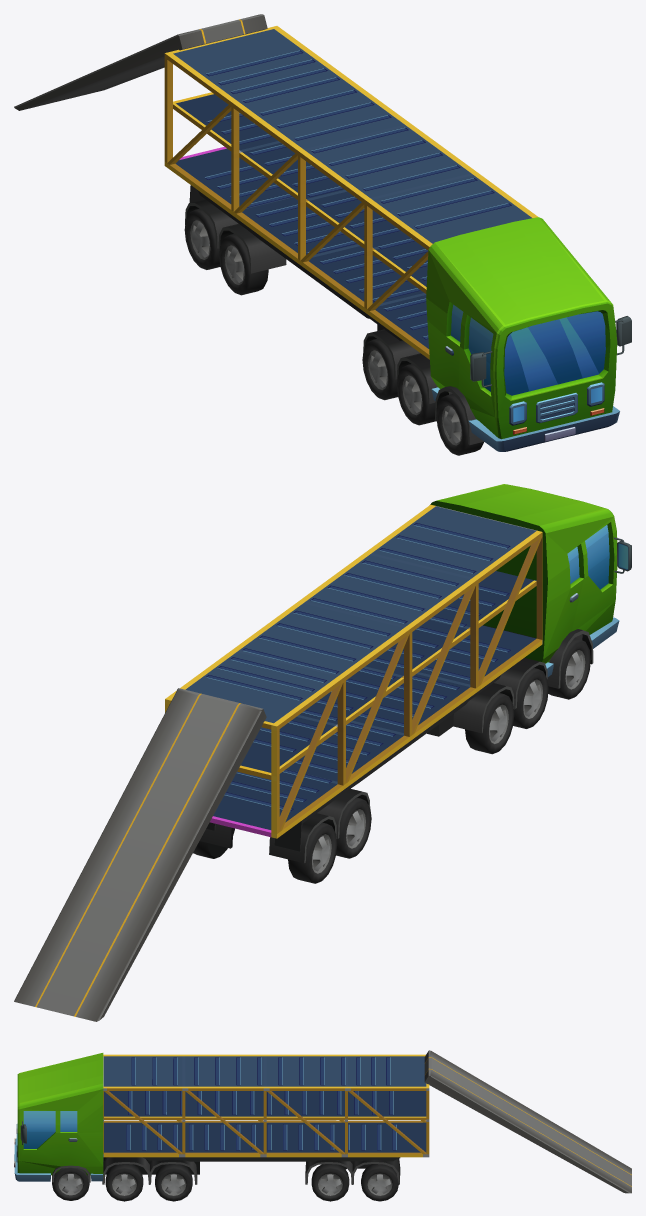
File: Troller_new 1.fbx
3 renders of one model, top to bottom at view 1: azimuth 30°, elevation 25°; view 2: azimuth 150°, elevation 25°; view 3: azimuth 270°, elevation 25°, orthographic. The views are drawn at different scales.
Parts seen in each view (by area): view 1: back_Troller, front_troller, Truck_With_Carrier_new:Ramp1, Truck_With_Carrier_new:Truck7, Truck_With_Carrier_new:Truck10, Truck_With_Carrier_new:Truck9, Truck_With_Carrier_new:Truck6, Truck_With_Carrier_new:Truck5; view 2: back_Troller, Truck_With_Carrier_new:Ramp1, front_troller, Truck_With_Carrier_new:Truck5, Truck_With_Carrier_new:Truck6, Truck_With_Carrier_new:Truck7, Truck_With_Carrier_new:Truck10, Truck_With_Carrier_new:Truck9; view 3: back_Troller, front_troller, Truck_With_Carrier_new:Ramp1, Truck_With_Carrier_new:Truck8, Truck_With_Carrier_new:Truck4, Truck_With_Carrier_new:Truck1, Truck_With_Carrier_new:Truck3, Truck_With_Carrier_new:Truck2.
Boxes of the visible parts, <box> form: back_Troller: <box>164,26,545,403</box>; front_troller: <box>426,217,631,451</box>; Truck_With_Carrier_new:Ramp1: <box>14,14,267,110</box>; Truck_With_Carrier_new:Truck7: <box>219,234,268,295</box>; Truck_With_Carrier_new:Truck10: <box>397,364,435,425</box>; Truck_With_Carrier_new:Truck9: <box>436,394,483,455</box>; Truck_With_Carrier_new:Truck6: <box>362,339,397,400</box>; Truck_With_Carrier_new:Truck5: <box>184,208,220,269</box>; back_Troller: <box>165,504,547,863</box>; Truck_With_Carrier_new:Ramp1: <box>14,688,266,1021</box>; front_troller: <box>430,484,631,688</box>; Truck_With_Carrier_new:Truck5: <box>288,822,337,883</box>; Truck_With_Carrier_new:Truck6: <box>465,693,514,754</box>; Truck_With_Carrier_new:Truck7: <box>336,797,371,858</box>; Truck_With_Carrier_new:Truck10: <box>513,668,548,728</box>; Truck_With_Carrier_new:Truck9: <box>548,638,590,699</box>; back_Troller: <box>102,1054,429,1184</box>; front_troller: <box>14,1053,103,1182</box>; Truck_With_Carrier_new:Ramp1: <box>424,1050,631,1193</box>; Truck_With_Carrier_new:Truck8: <box>105,1164,143,1201</box>; Truck_With_Carrier_new:Truck4: <box>311,1164,349,1201</box>; Truck_With_Carrier_new:Truck1: <box>155,1164,192,1201</box>; Truck_With_Carrier_new:Truck3: <box>361,1164,398,1201</box>; Truck_With_Carrier_new:Truck2: <box>52,1167,89,1200</box>.
Size of the model in its own units: 107 by 127 by 586.
